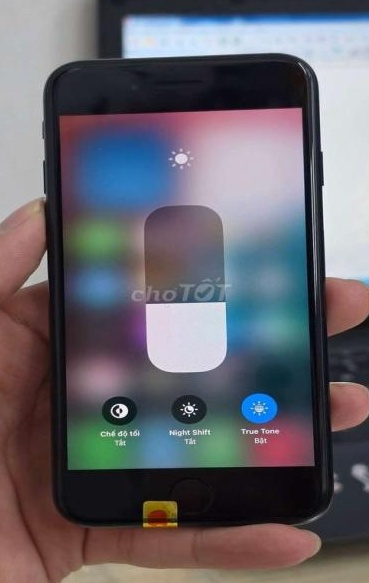scratch: (289, 56, 317, 82), (56, 60, 86, 75)
